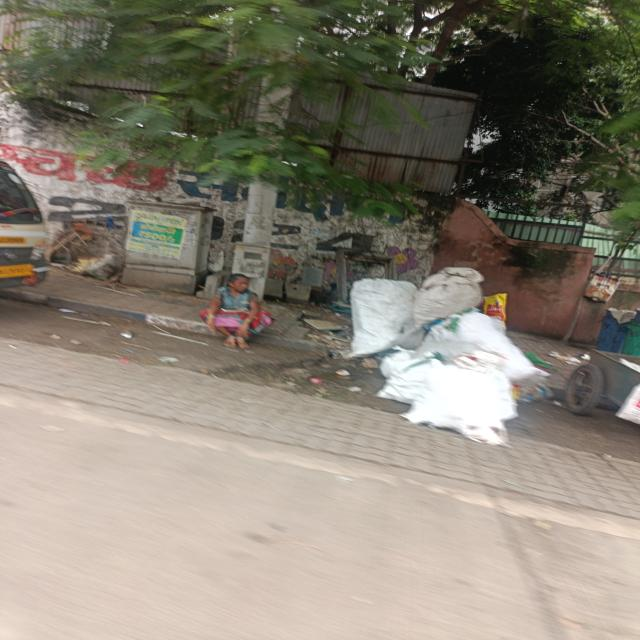garbage: (355, 280, 530, 450)
